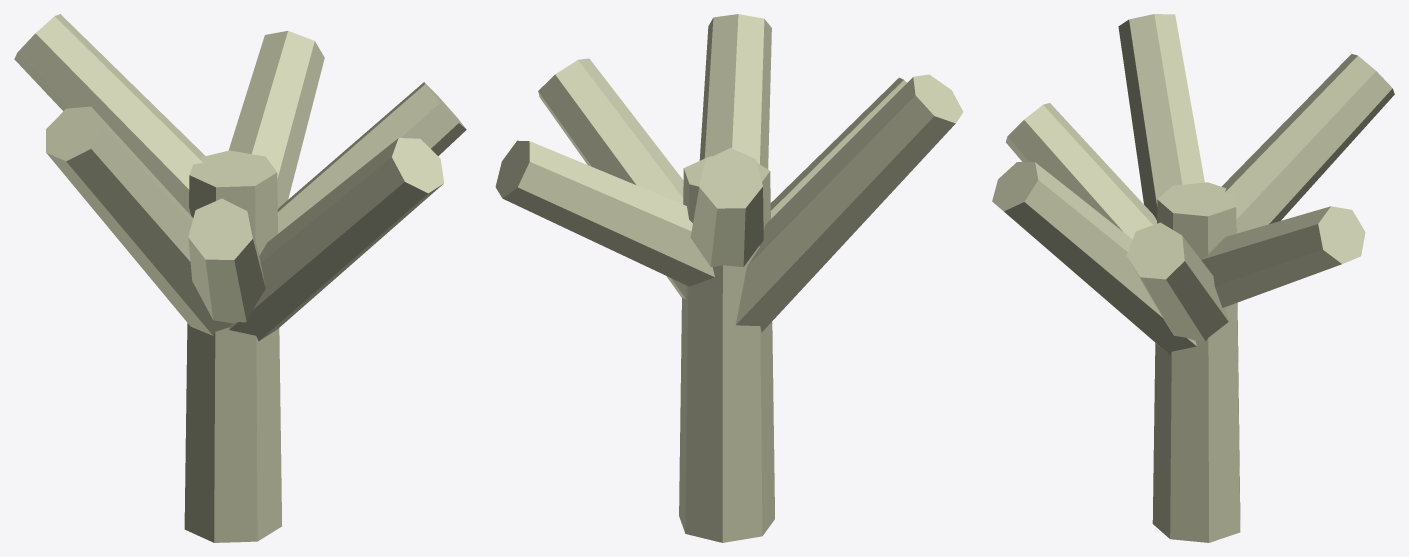
File: Cholla.glb
The picture shows the model from 3 angles, left to right: view 1: azimuth 30°, elevation 25°; view 2: azimuth 150°, elevation 25°; view 3: azimuth 270°, elevation 25°; orthographic projection. The views are drawn at different scales.
Visible parts, largest first — view 1: Limb.105, Limb.111, Limb.109, Limb.108, Limb.107, Limb.110, Limb.106; view 2: Limb.105, Limb.109, Limb.107, Limb.106, Limb.111, Limb.108, Limb.110; view 3: Limb.105, Limb.108, Limb.111, Limb.109, Limb.107, Limb.110, Limb.106.
Boxes of the visible parts, left/top/right/bottom form: Limb.105: left=184, top=150, right=281, bottom=542; Limb.111: left=229, top=138, right=443, bottom=340; Limb.109: left=46, top=106, right=232, bottom=335; Limb.108: left=14, top=14, right=205, bottom=215; Limb.107: left=228, top=31, right=324, bottom=209; Limb.110: left=188, top=198, right=265, bottom=323; Limb.106: left=277, top=82, right=466, bottom=233; Limb.105: left=679, top=156, right=774, bottom=542; Limb.109: left=735, top=74, right=963, bottom=332; Limb.107: left=495, top=140, right=714, bottom=286; Limb.106: left=538, top=58, right=686, bottom=298; Limb.111: left=699, top=14, right=771, bottom=169; Limb.108: left=690, top=148, right=763, bottom=267; Limb.110: left=770, top=77, right=906, bottom=218; Limb.105: left=1152, top=182, right=1240, bottom=542; Limb.108: left=1221, top=54, right=1394, bottom=233; Limb.111: left=992, top=162, right=1196, bottom=355; Limb.109: left=1118, top=14, right=1204, bottom=219; Limb.107: left=1201, top=206, right=1365, bottom=307; Limb.110: left=1006, top=103, right=1156, bottom=239; Limb.106: left=1126, top=222, right=1228, bottom=341.
Bounding box in the file's own units: 0.8639 × 0.9397 × 0.7871.
